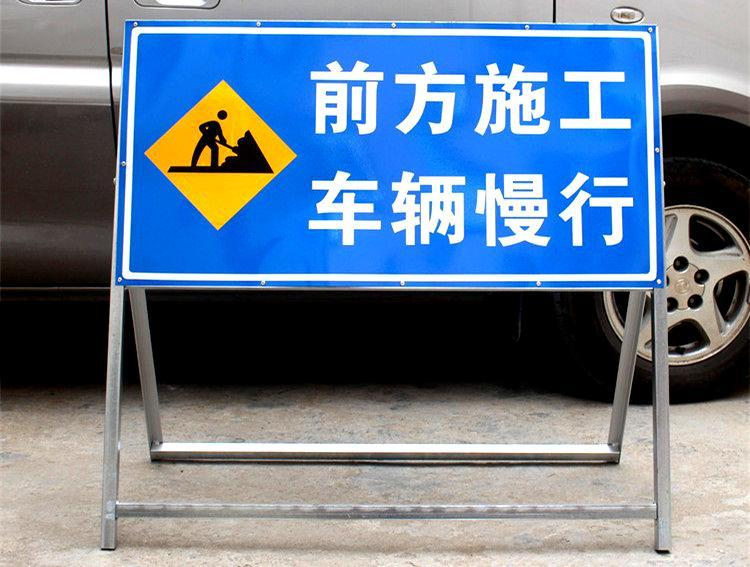sign: (118, 26, 659, 279)
